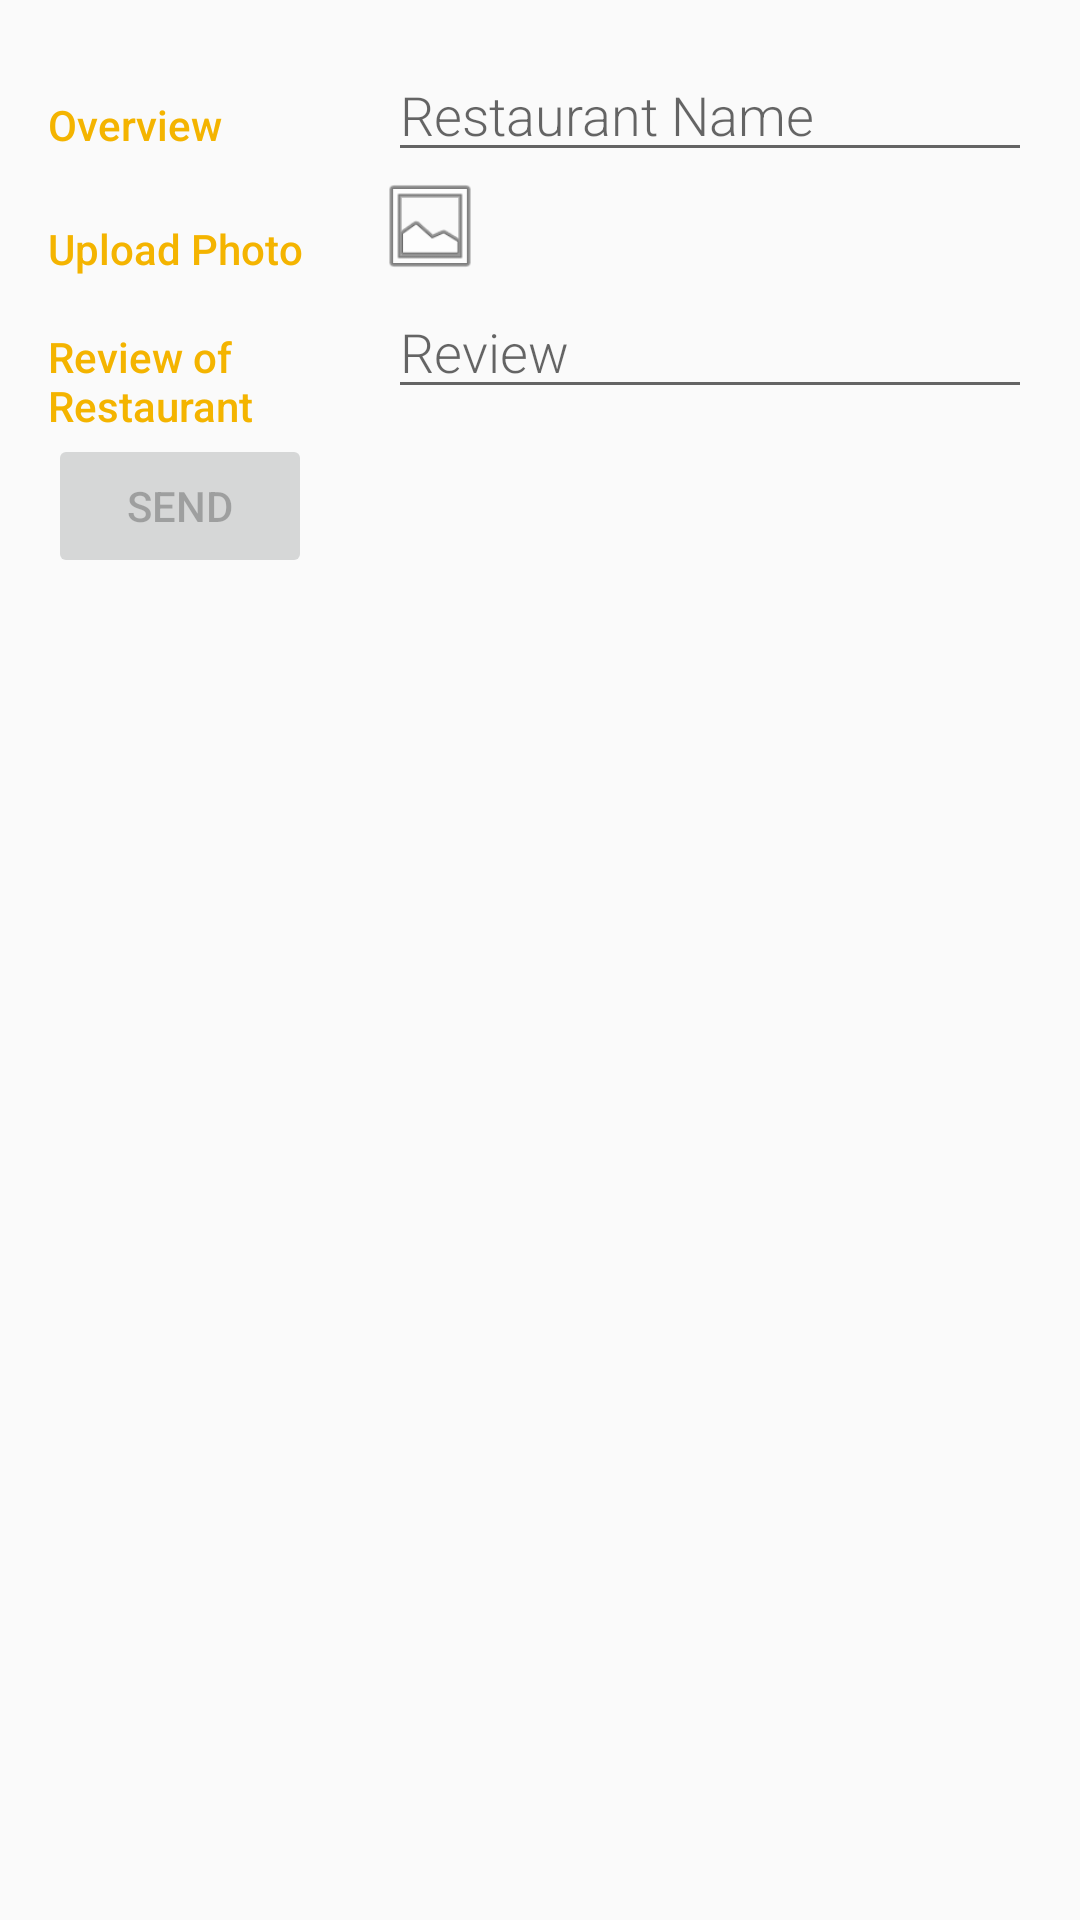

Named icons in this screenshot (1080*1920) and their centers, (x,y):
gallery: (430,226)
